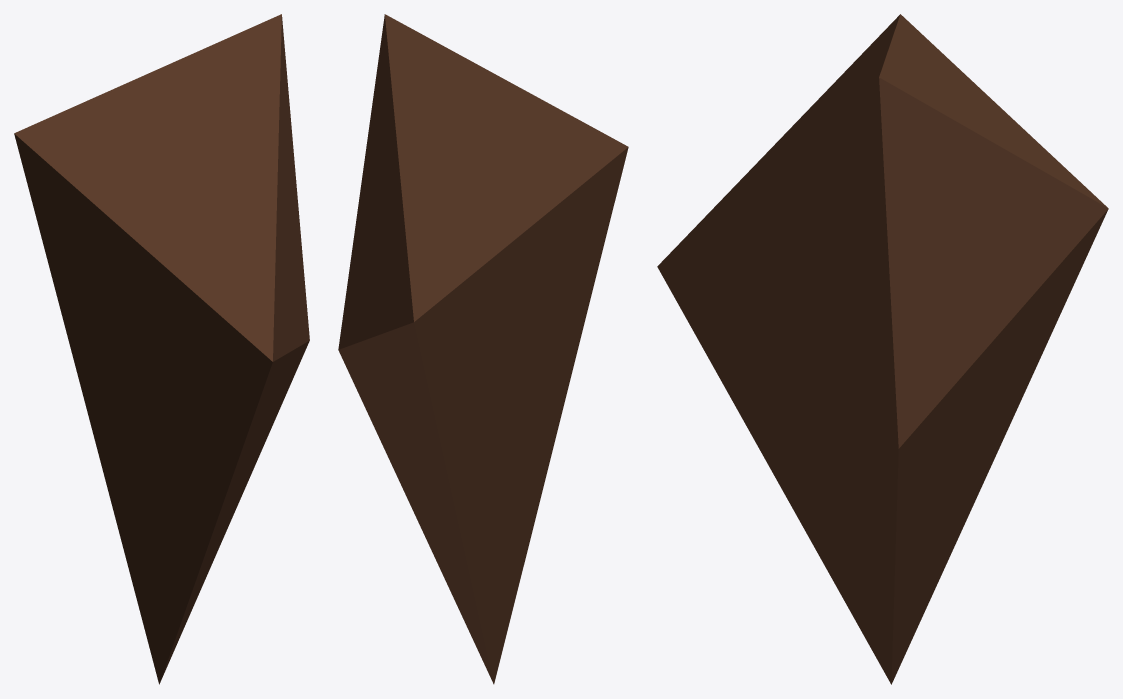
File: RockShatter3.fbx
3 views of the same model, side by side, from view 1: azimuth 30°, elevation 25°; view 2: azimuth 150°, elevation 25°; view 3: azimuth 270°, elevation 25° (orthographic). The views are drawn at different scales.
Visible parts, largest first — view 1: RockShatter3; view 2: RockShatter3; view 3: RockShatter3.
Part boxes in pixels (left/top/right/bottom): RockShatter3: left=14, top=14, right=309, bottom=684; RockShatter3: left=338, top=14, right=628, bottom=684; RockShatter3: left=657, top=14, right=1108, bottom=684.
Bounding box in the file's own units: 0.00485 × 0.0102 × 0.00625.
